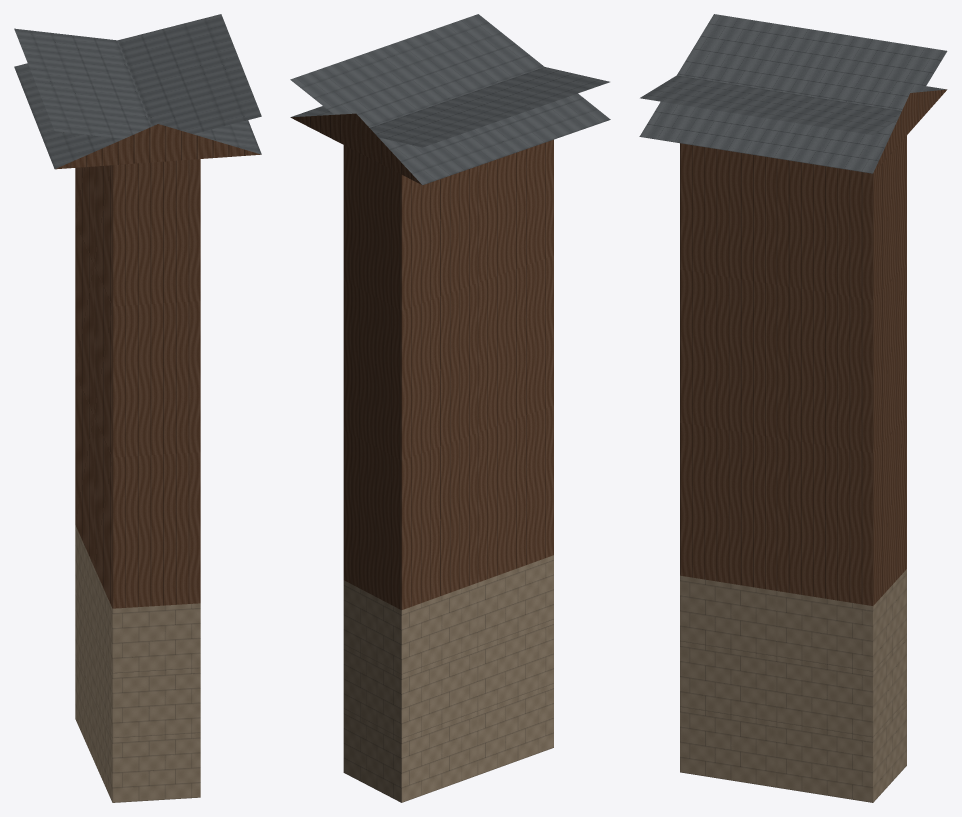
The model's file is bld_c-3_-1_543.gltf.
The picture shows the model from 3 angles, left to right: view 1: azimuth 30°, elevation 25°; view 2: azimuth 150°, elevation 25°; view 3: azimuth 270°, elevation 25°; orthographic projection. The views are drawn at different scales.
Parts seen in each view (by area): view 1: bld_c-3_-1_543; view 2: bld_c-3_-1_543; view 3: bld_c-3_-1_543.
Boxes of the visible parts, x1=… form: bld_c-3_-1_543: x1=14, y1=14, x2=261, y2=802; bld_c-3_-1_543: x1=290, y1=14, x2=610, y2=802; bld_c-3_-1_543: x1=639, y1=14, x2=947, y2=802.
Bounding box in the file's own units: 6.74 × 18 × 7.24.
Materials: 4 (4 with a texture image).
